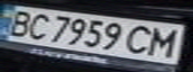5: (81, 17, 106, 51)
7: (45, 12, 72, 45)
9: (100, 20, 130, 52), (63, 16, 87, 47)
B: (0, 7, 39, 37)
C: (121, 22, 160, 56), (21, 10, 54, 42)
M: (142, 25, 190, 58)
